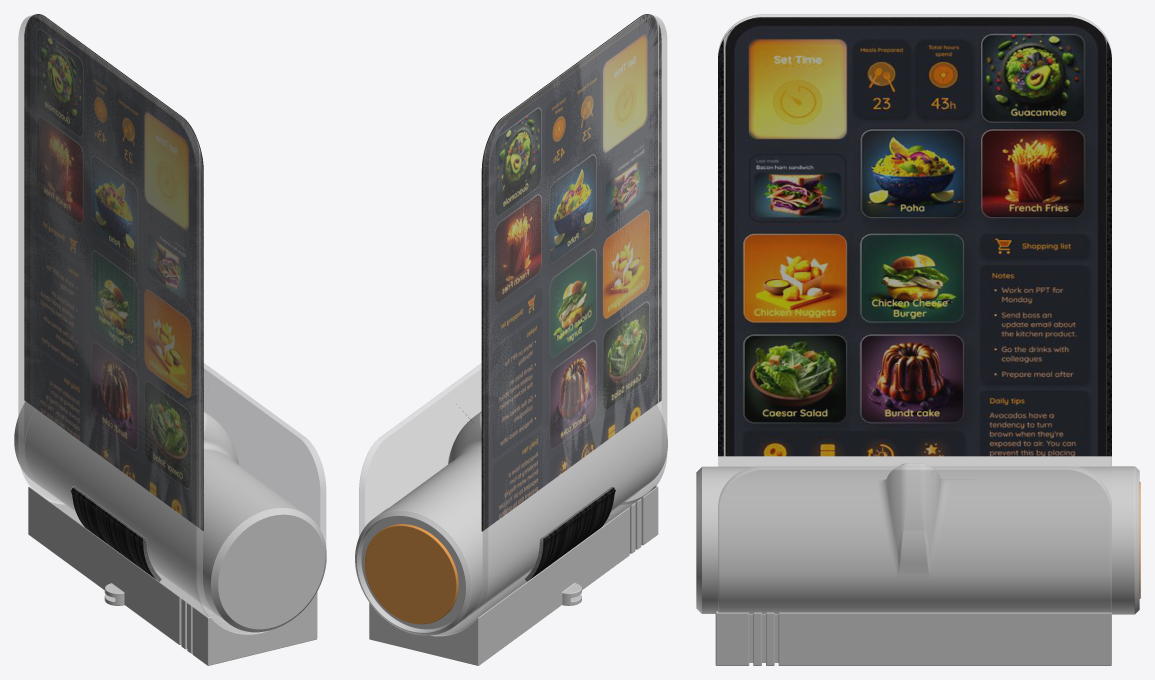
Rendered from 3d-model-of-chef.glb.
3 views of the same model, side by side, from view 1: azimuth 30°, elevation 25°; view 2: azimuth 150°, elevation 25°; view 3: azimuth 270°, elevation 25° (orthographic). The views are drawn at different scales.
Parts seen in each view (by area): view 1: Final Chef Model (×6); view 2: Final Chef Model (×7); view 3: Final Chef Model (×5).
Boxes of the visible parts, left/top/right/bottom form: Final Chef Model (×6): left=14, top=14, right=326, bottom=665; Final Chef Model (×7): left=355, top=14, right=667, bottom=665; Final Chef Model (×5): left=696, top=14, right=1139, bottom=665.
Bounding box in the file's own units: 0.0862 × 0.333 × 0.228.
45 materials, 2 textured.
